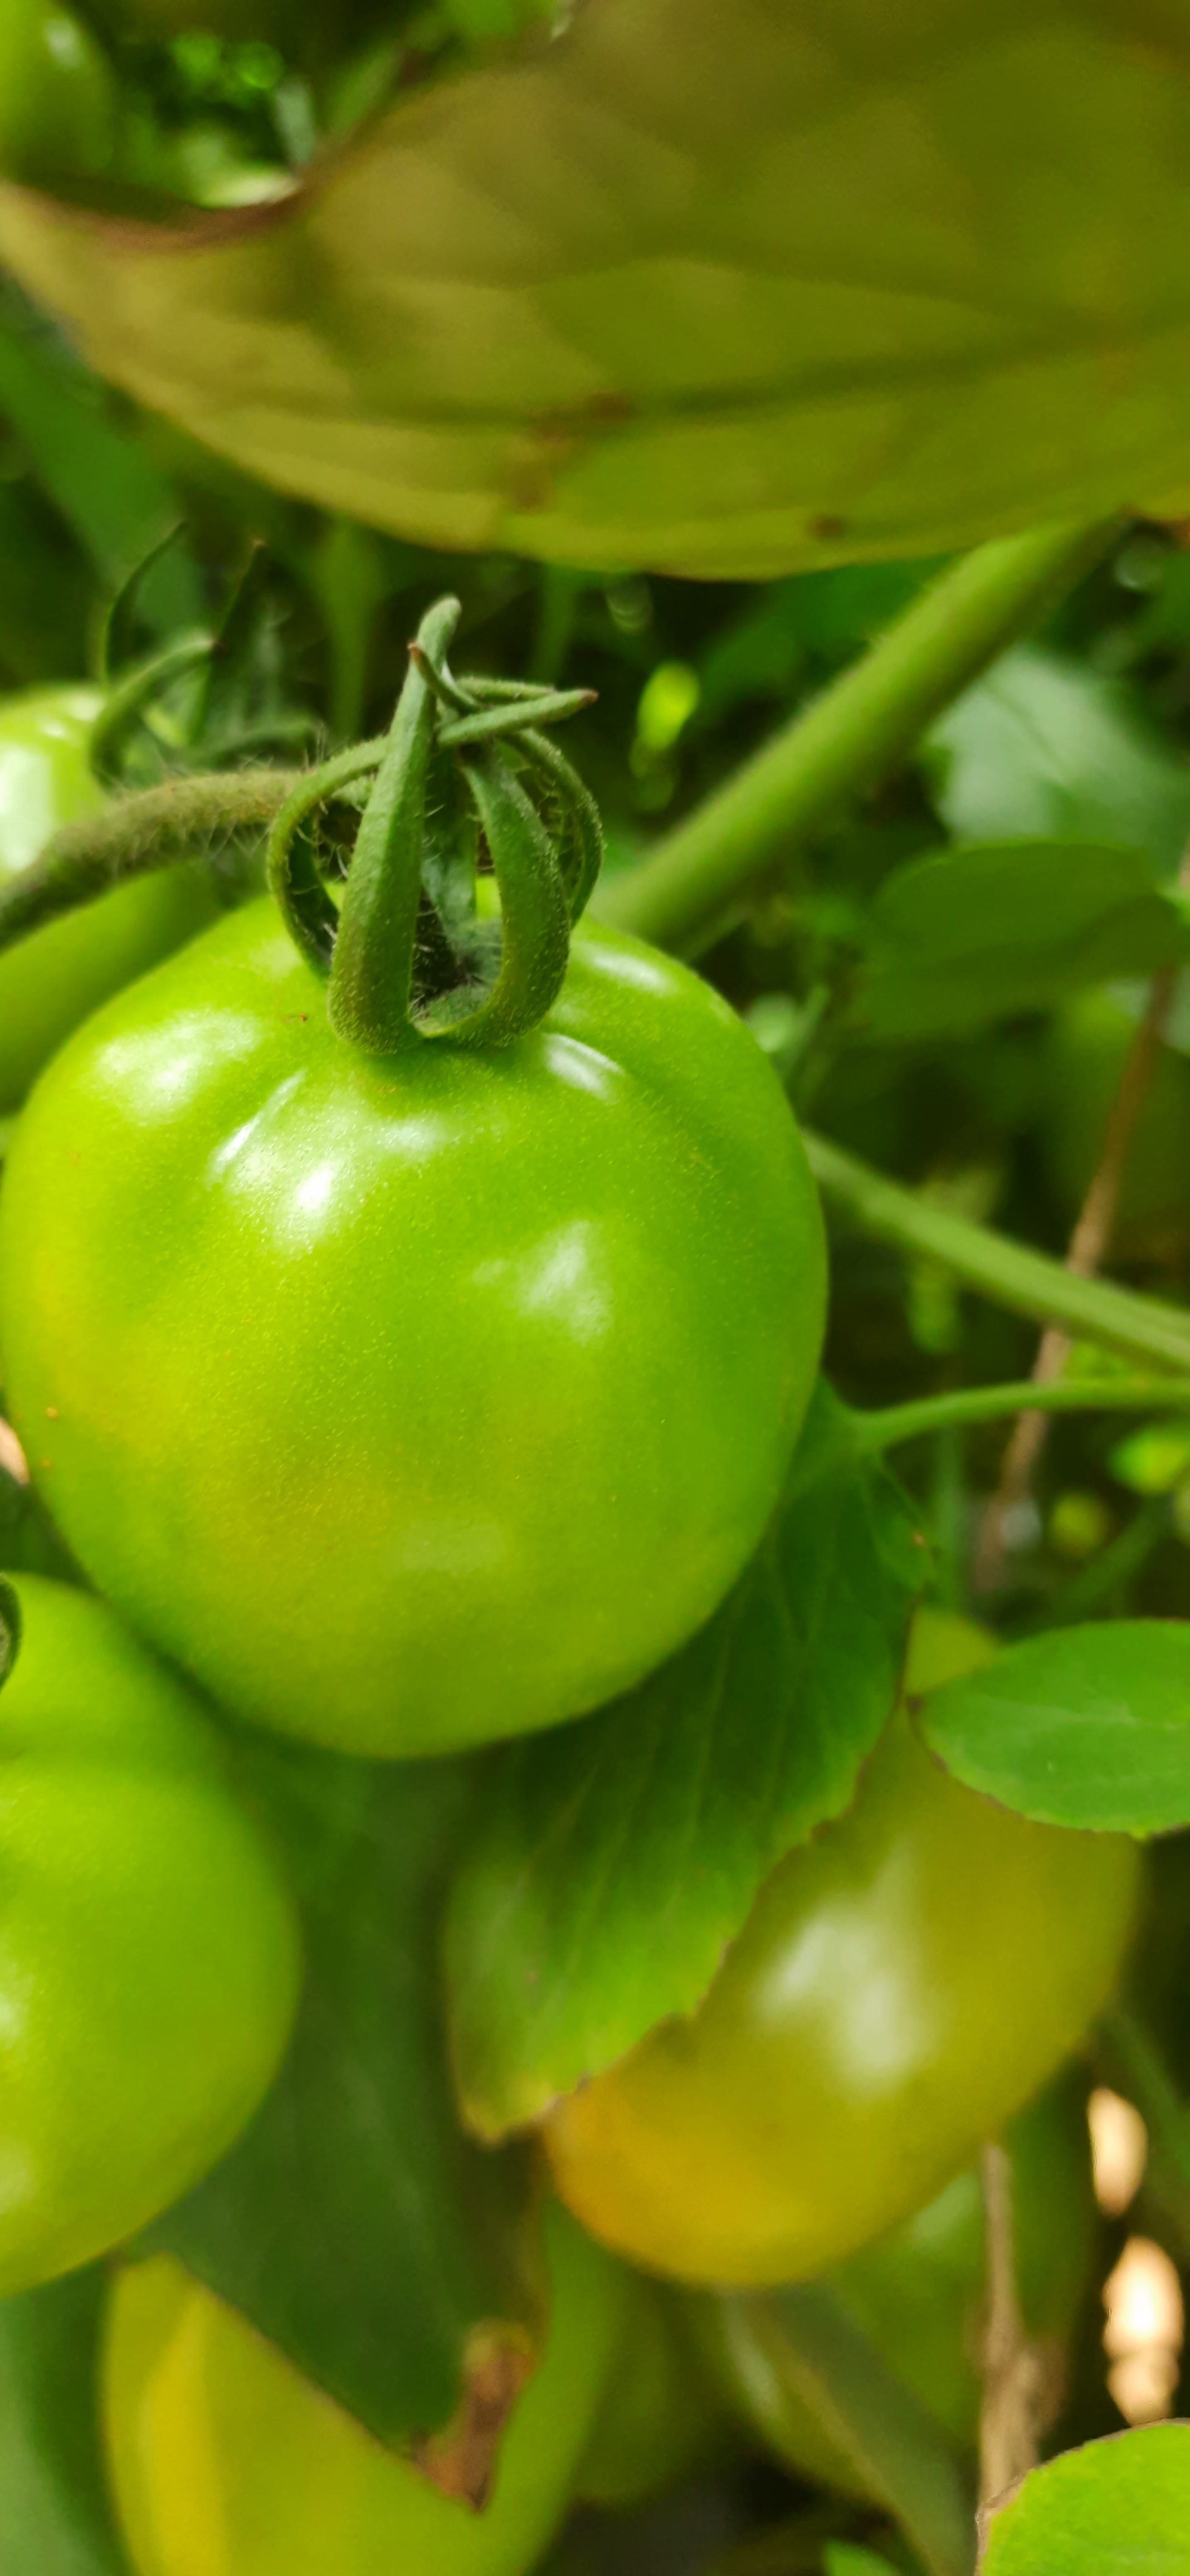raw_tomato: (25, 718, 907, 1791)
